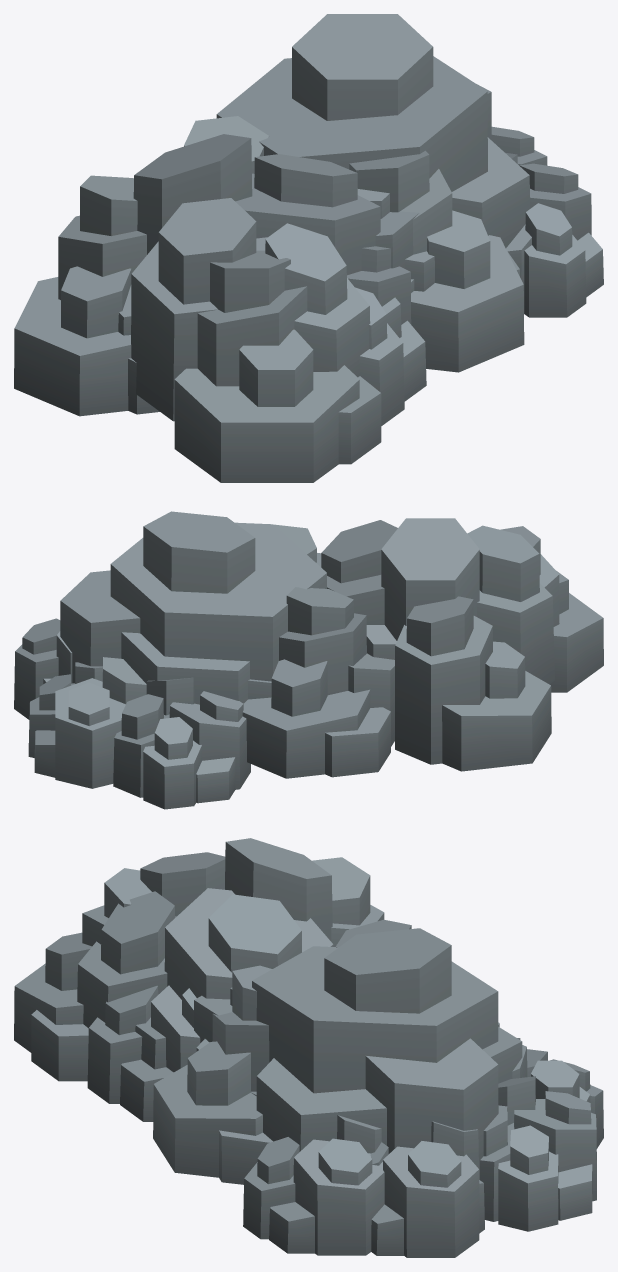
Rendered from Mountain Left.glb.
3 views of the same model, one above another, from view 1: azimuth 30°, elevation 25°; view 2: azimuth 150°, elevation 25°; view 3: azimuth 270°, elevation 25° (orthographic). The views are drawn at different scales.
Parts seen in each view (by area): view 1: mountain_A5; view 2: mountain_A5; view 3: mountain_A5.
Boxes of the visible parts, x1=… form: mountain_A5: x1=14, y1=14, x2=603, y2=482; mountain_A5: x1=14, y1=511, x2=603, y2=809; mountain_A5: x1=14, y1=838, x2=603, y2=1257.
Bounding box in the file's own units: 30.34 × 12.56 × 29.55.
1 material, 1 textured.
